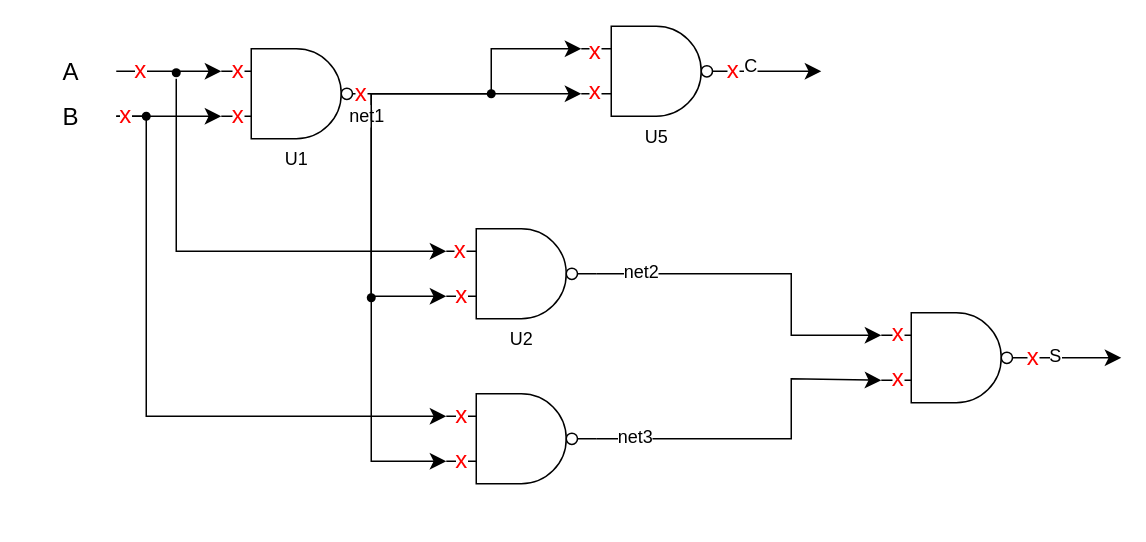
Some shapes in this 1146 by 542 pixel diagram are drawn without their labels. Here are the shapes that lost their labels. From the top down, the centre of each, then its label:
pixel 955 357: U4
pixel 520 438: U3
